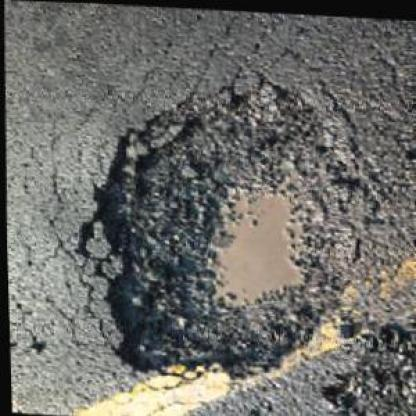pothole: (62, 64, 383, 385)
